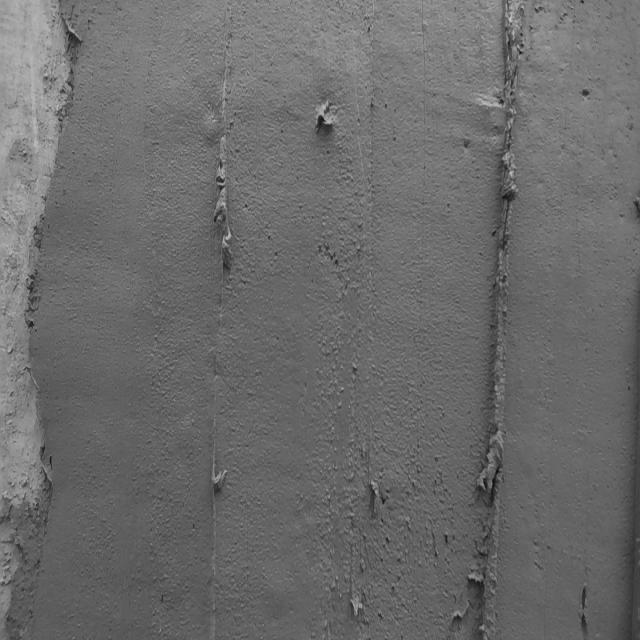trowels marks: (473, 3, 517, 640), (206, 36, 232, 597)
